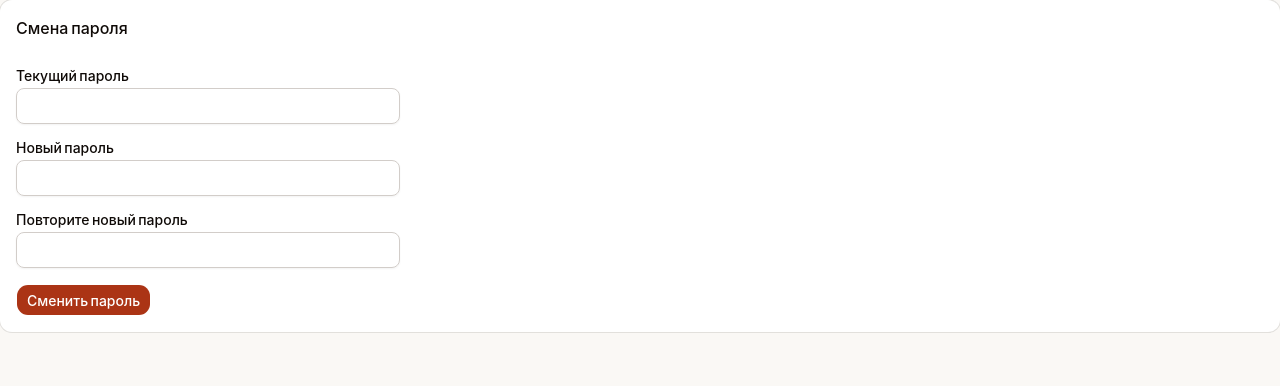
Test: ChangePasswordSection › rejects mismatched confirmation
The image size is (1280, 386).
In the password field labelled "Текущий пароль": (208, 106) [16,88,400,124], type "oldpw123"
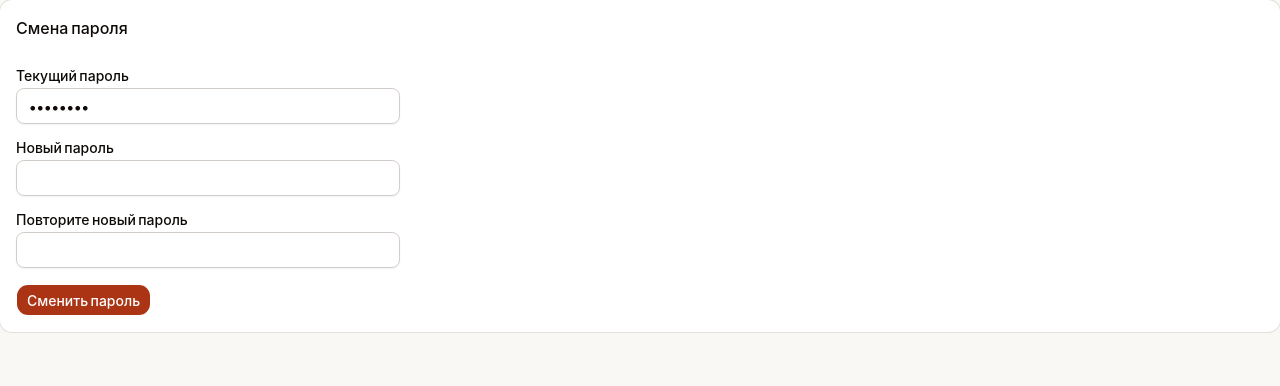
In the password field labelled "Новый пароль": (208, 178) [16,160,400,196], type "newpw456"
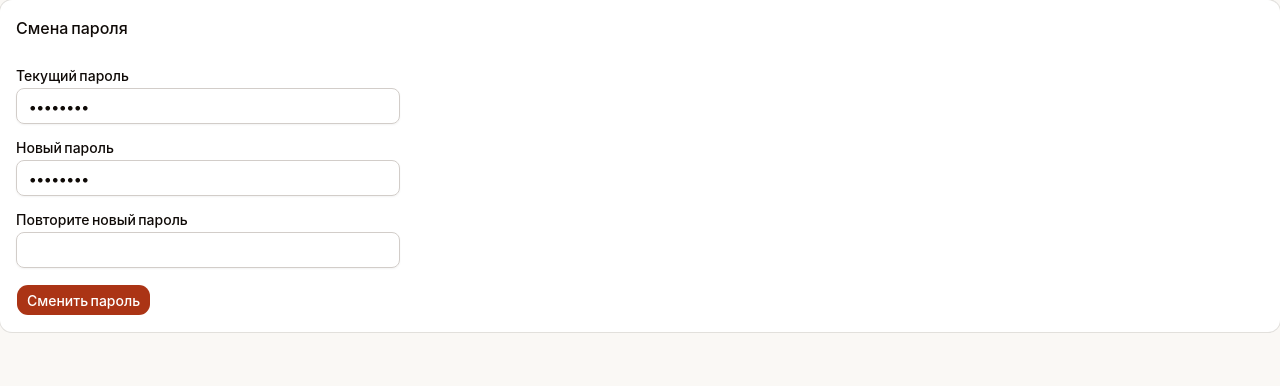
In the password field labelled "Повторите новый пароль": (208, 250) [16,232,400,268], type "different"
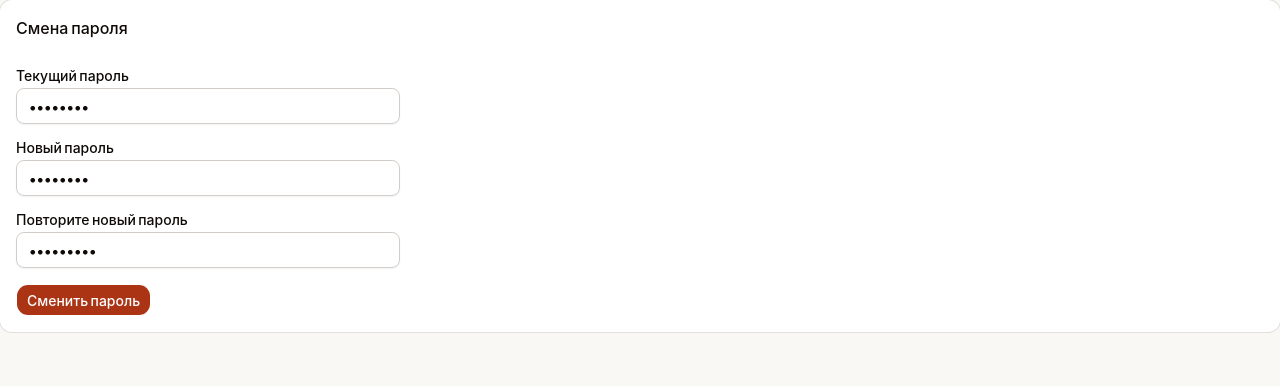
Click the button "Сменить пароль": (84, 300) [16,284,151,316]
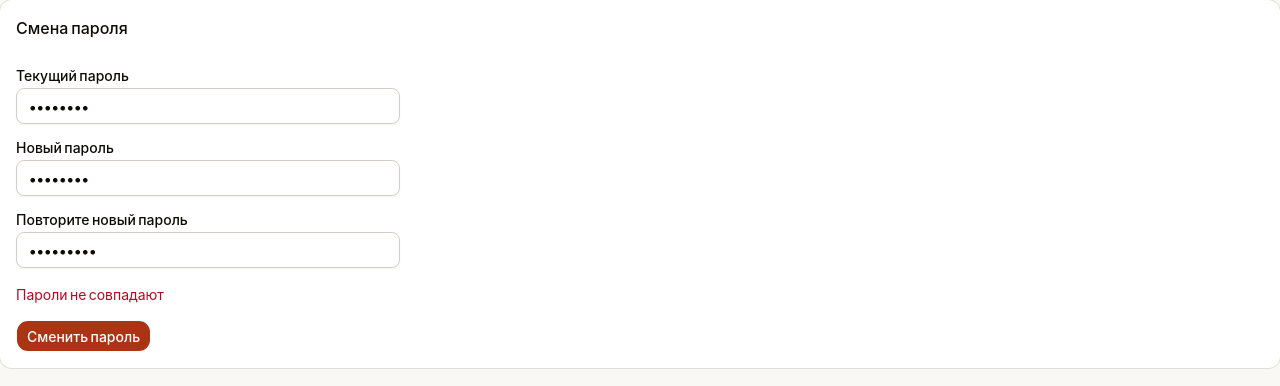
Expected: the text "Пароли не совпадают" is shown, [16,285,164,303]
